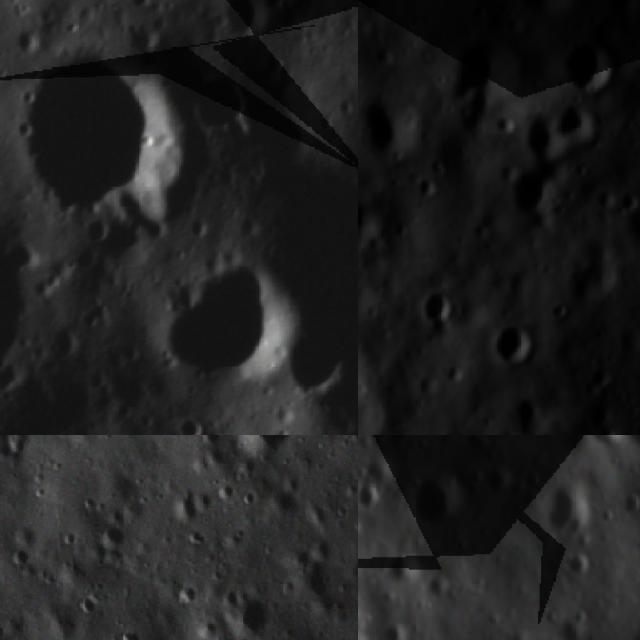crater: (0, 33, 185, 250), (137, 243, 301, 411), (446, 32, 531, 124), (183, 52, 256, 136), (402, 469, 480, 543), (358, 85, 419, 165), (499, 159, 567, 224), (556, 32, 622, 98), (542, 478, 602, 549), (488, 317, 544, 375), (515, 108, 567, 165), (220, 587, 275, 640), (208, 0, 267, 48), (551, 98, 598, 152), (227, 435, 298, 465), (510, 0, 584, 25), (358, 190, 387, 249), (94, 520, 134, 562), (421, 285, 459, 327), (406, 170, 442, 204), (168, 408, 209, 435), (582, 361, 615, 394), (390, 213, 419, 244), (590, 182, 618, 214), (614, 183, 640, 214), (604, 0, 640, 21), (550, 296, 572, 327), (629, 309, 640, 369), (124, 428, 158, 435)
